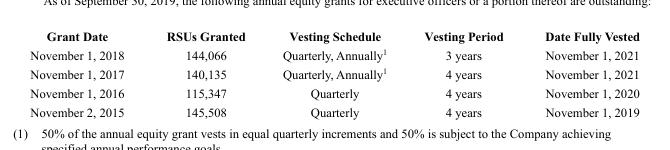table: (29, 29, 639, 118)
table column: (263, 29, 404, 118), (144, 29, 263, 118), (404, 29, 523, 118), (523, 29, 639, 118), (29, 29, 144, 118)
table column header: (29, 29, 639, 44)
table row: (29, 63, 639, 83), (29, 44, 639, 63), (29, 83, 639, 102), (29, 102, 639, 118), (29, 29, 639, 44)
